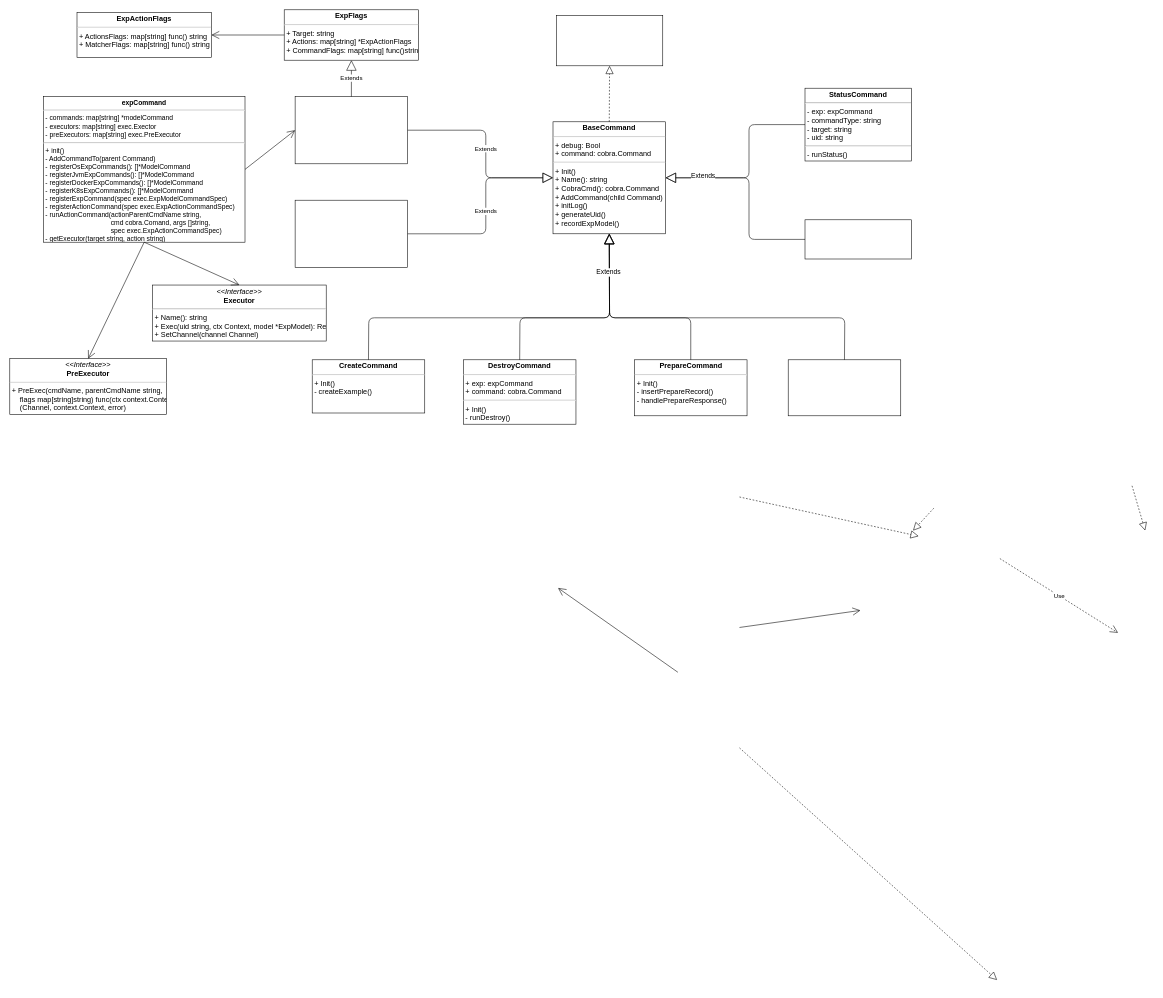
Image size: 1163x998. Some labels were removed from this diagram. Here are the shapes that lost their labels. From the top down, the centre of each, then its label:
At (x=609, y=40): "<<Interface>> Command + Init() + CobraCmd(): cobra.Command".
At (x=351, y=130): "modelCommand + exp: expCommand + command: cobra.Command + Init() - runDestroy()".
At (x=351, y=233): "ActionCommand + uid: string + exp: ExpModel + Init() - runDestroy()".
At (x=857, y=239): "VersionCommand - Init()".
At (x=844, y=387): "PrepareJvmCommand + processname: string + sandboxname: string + Init()".
